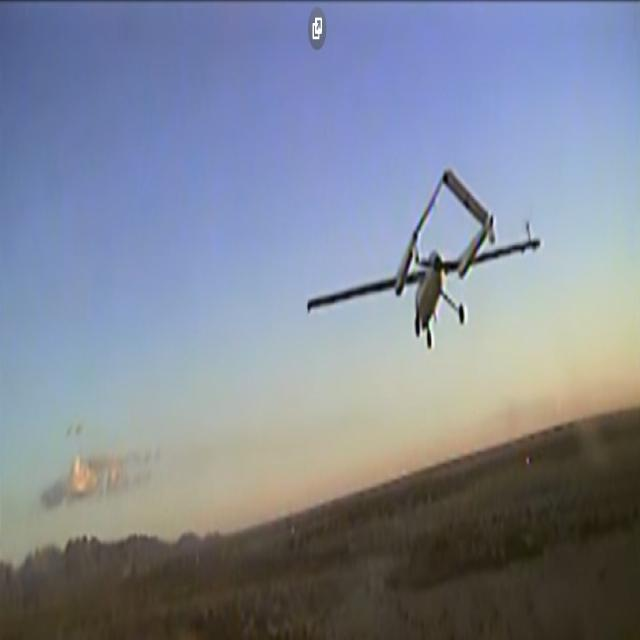iha: (304, 166, 542, 358)
